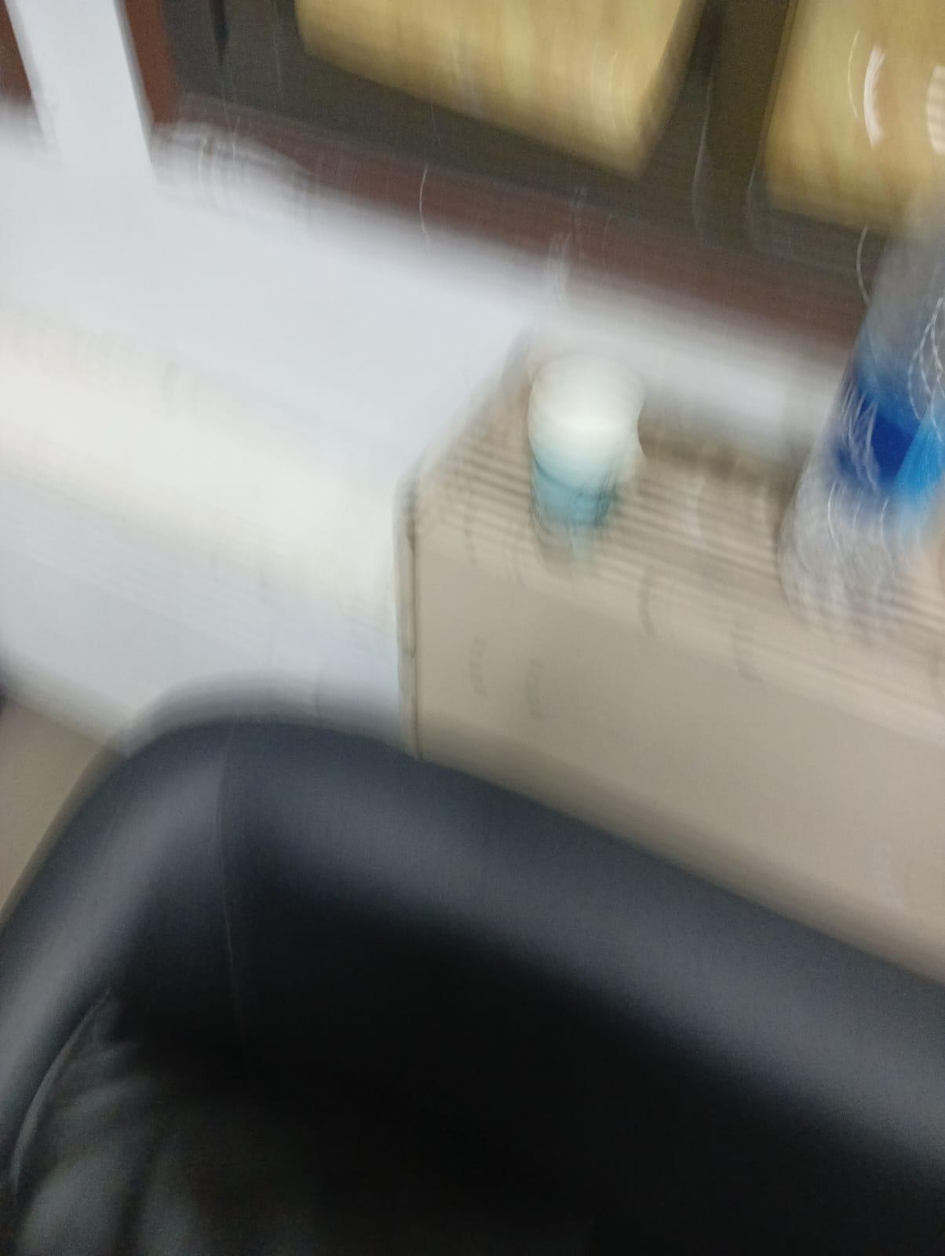cup: (527, 355, 643, 551)
